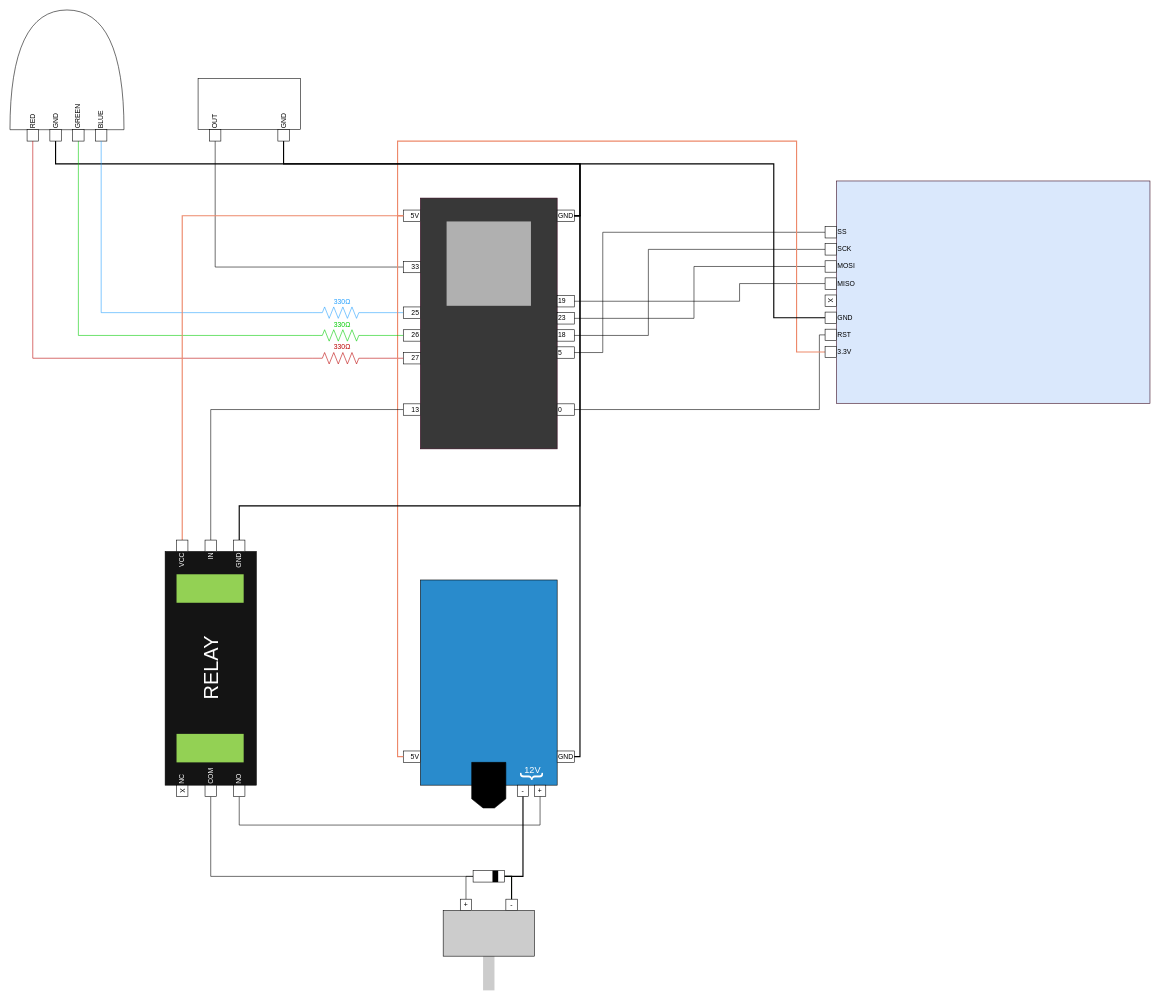
The diagram is 1160 pixels wide and 1000 high, and some of its shapes have lost their labels. The box of each missing label's shape, as (x1, y1, x2, y2) in pixels:
ESP32: (446, 221, 531, 306)
LED: (9, 9, 124, 130)
LOCK: (443, 910, 534, 956)
NFC: (836, 180, 1150, 403)
POWER SHIELD: (420, 579, 557, 785)
RE ED: (198, 78, 301, 130)
